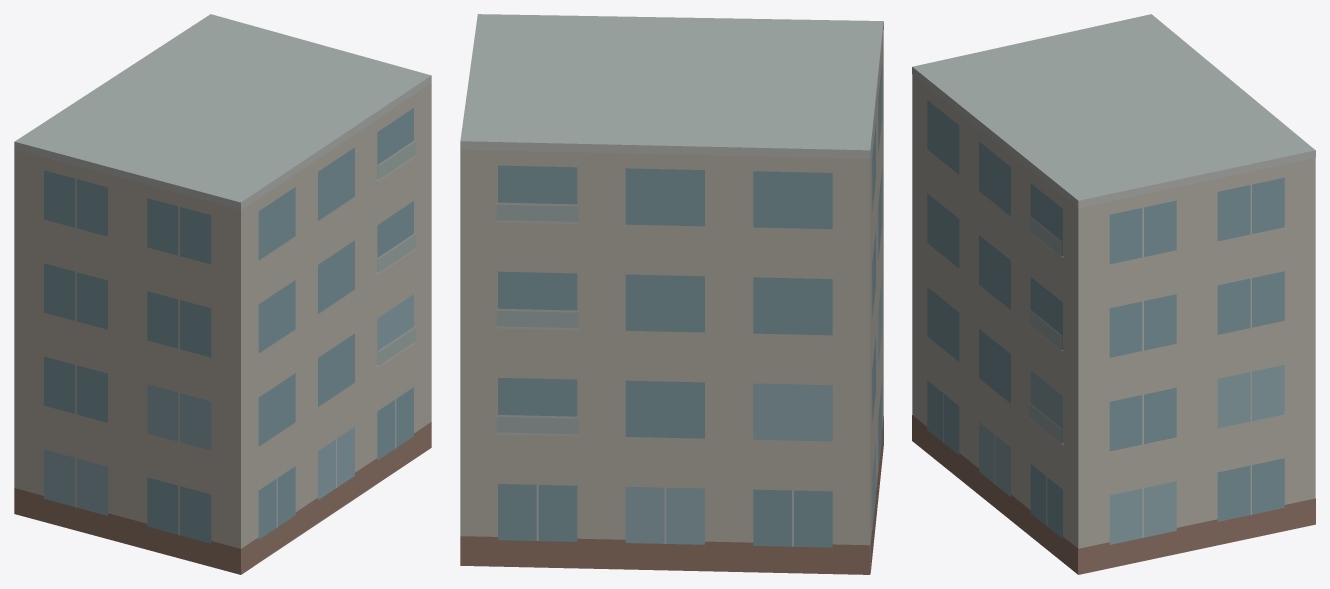
The model's file is survey-upis-32512394.glb.
The picture shows the model from 3 angles, left to right: view 1: azimuth 30°, elevation 25°; view 2: azimuth 150°, elevation 25°; view 3: azimuth 270°, elevation 25°; orthographic projection. The views are drawn at different scales.
Parts seen in each view (by area): view 1: survey-upis-32512394.tmp; view 2: survey-upis-32512394.tmp; view 3: survey-upis-32512394.tmp.
Boxes of the visible parts, left/top/right/bottom form: survey-upis-32512394.tmp: left=14, top=14, right=431, bottom=574; survey-upis-32512394.tmp: left=460, top=14, right=883, bottom=574; survey-upis-32512394.tmp: left=912, top=14, right=1315, bottom=574.
Size of the model in its own units: 13.06 by 12.2 by 11.93.
